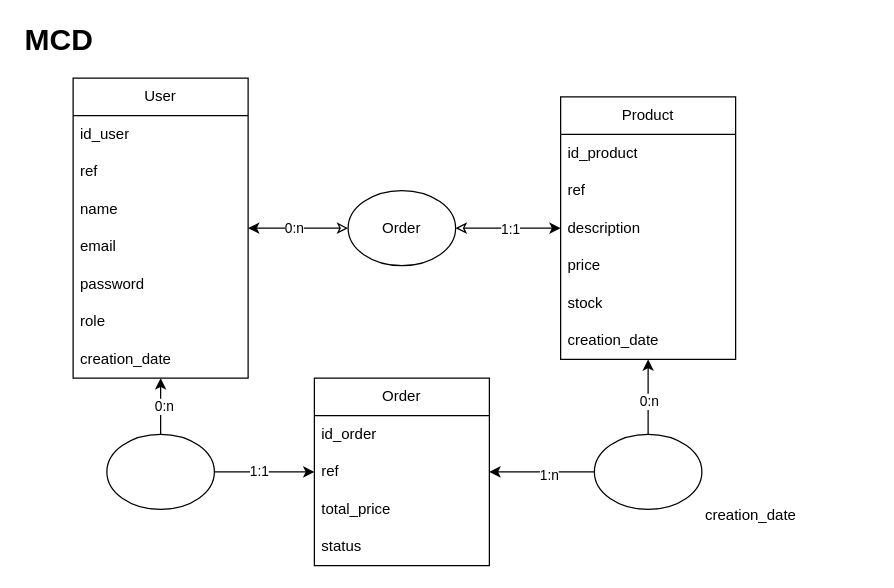
The diagram is 894 pixels wide and 588 high, and some of its shapes have lost their labels. Each missing label, with the centre of its shape:
Add: point 647,471
Show: point 160,471
